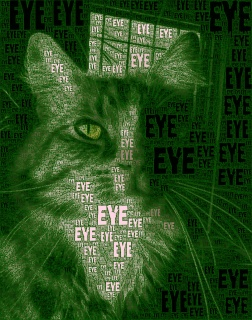Cat: (0, 32, 252, 319)
